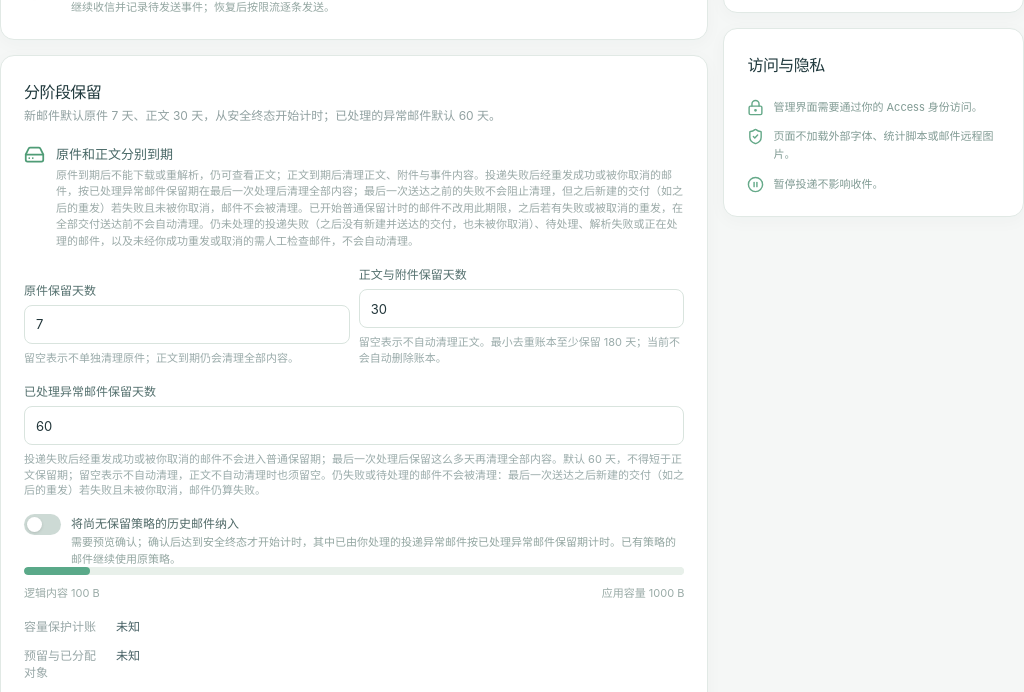
Scenario: says the resolved period is unchanged when only the content period changes
(page scrolled)
Expected: the heading "分阶段保留" is shown, [24,82,101,102]
Replace the text in the number field labelled "正文与附件保留天数 留空表示不自动清理正文。最小去重账本至少保留 180 天；当前不会自动删除账本。" with "40" at (522, 309), box [359,289,684,328]
(page scrolled)
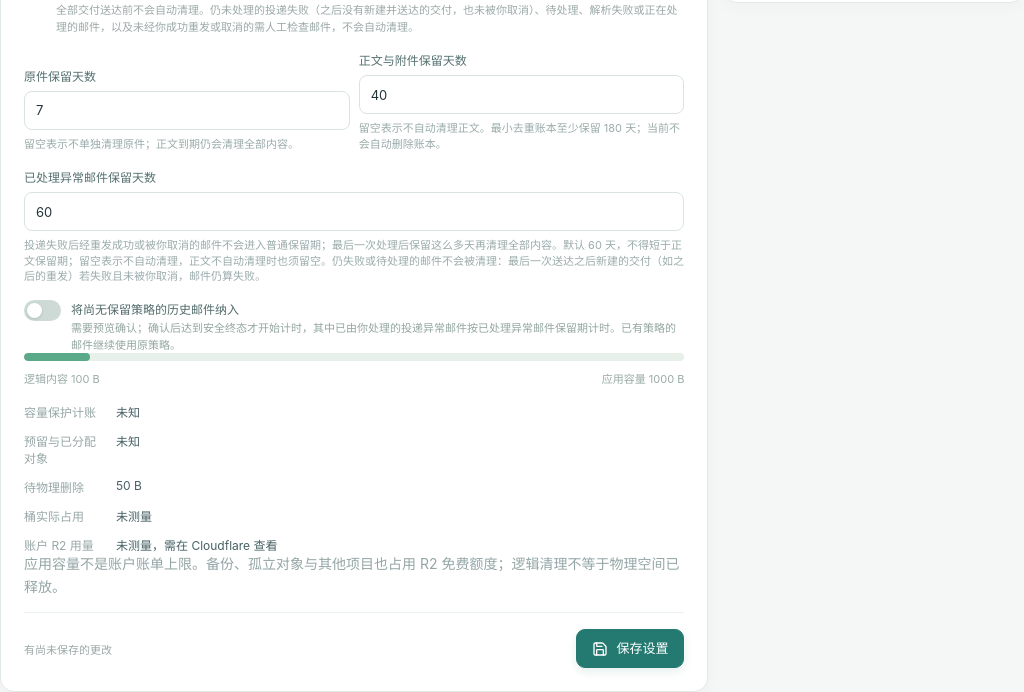
Click the button "保存设置" at (630, 649), box [576,629,684,668]
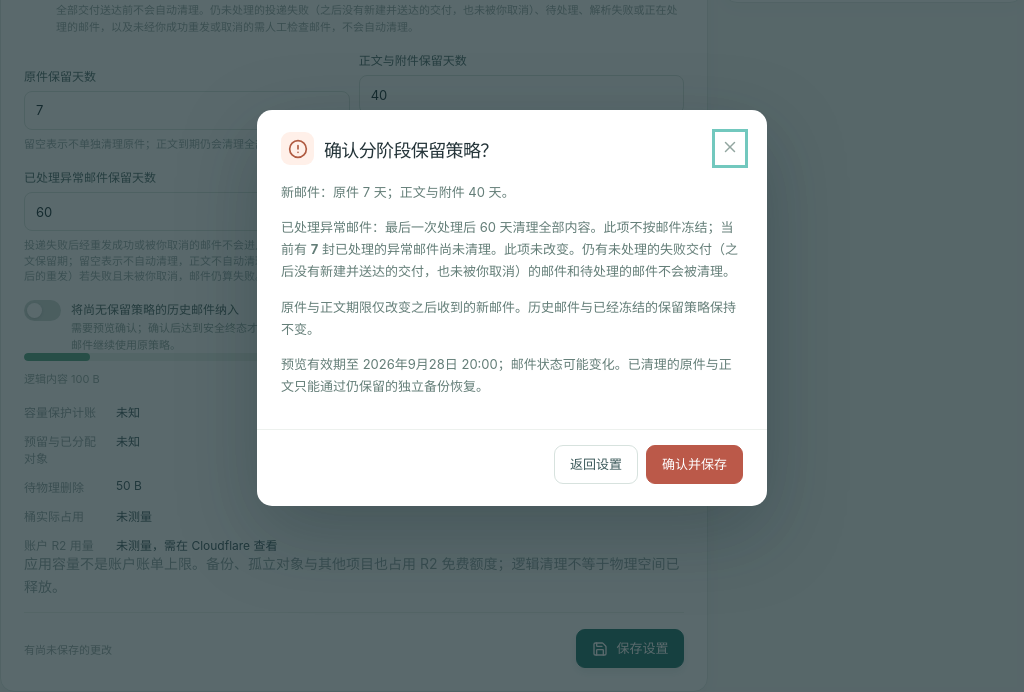
Expected: the heading "确认分阶段保留策略？" is shown, [324,140,498,161]
Expected: the text "7" is shown, [311,241,318,257]
Expected: the text "已处理异常邮件：最后一次处理后 60 天清理全部内容" shows "此项未改变。", [504,241,582,257]
